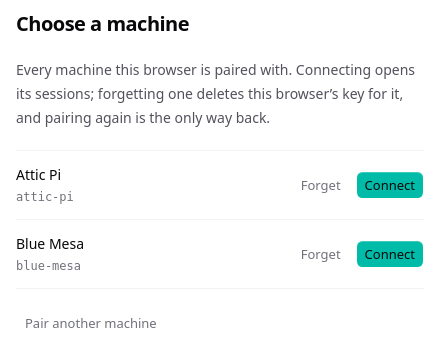
the machine picker › forgets a machine without asking, key and all
Click the button with aria-label "Forget Blue Mesa" at [321, 254], box x1=292 y1=240 x2=350 y2=268
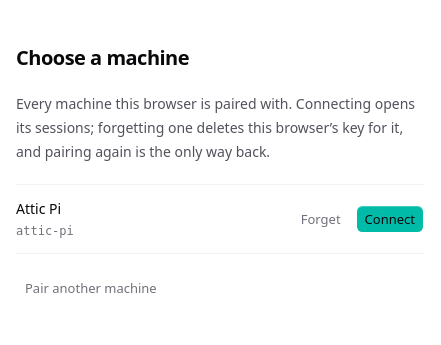
Expected: the text "Attic Pi" is shown, x1=16 y1=199 x2=61 y2=218
Now the text "Blue Mesa" is gone
